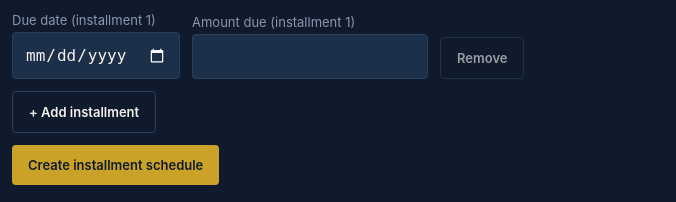
Test case: CreateInstallmentScheduleForm › shows the action-returned error message on failure
This screenshot has width=676, height=202.
In the date field labelled "Due date (installment 1)": (96, 56) [12,32,180,79], type "2026-09-01"
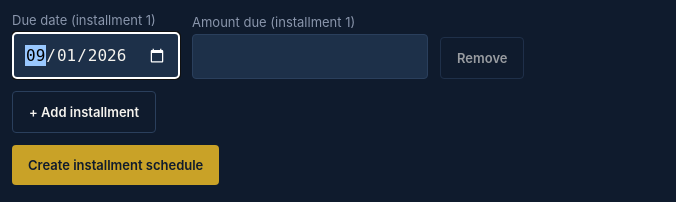
In the number field labelled "Amount due (installment 1)": (310, 56) [192,34,428,79], type "5000000"
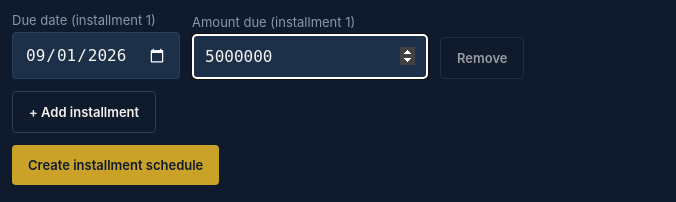
Click the button "Create installment schedule": (116, 165) [12,145,219,185]
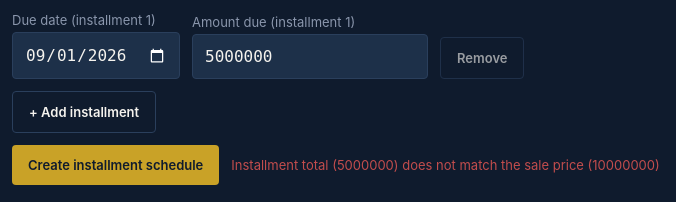
Now the text "Installment total (5000000) does not match the sale price (10000000)" is shown, box [231,157,660,173]
